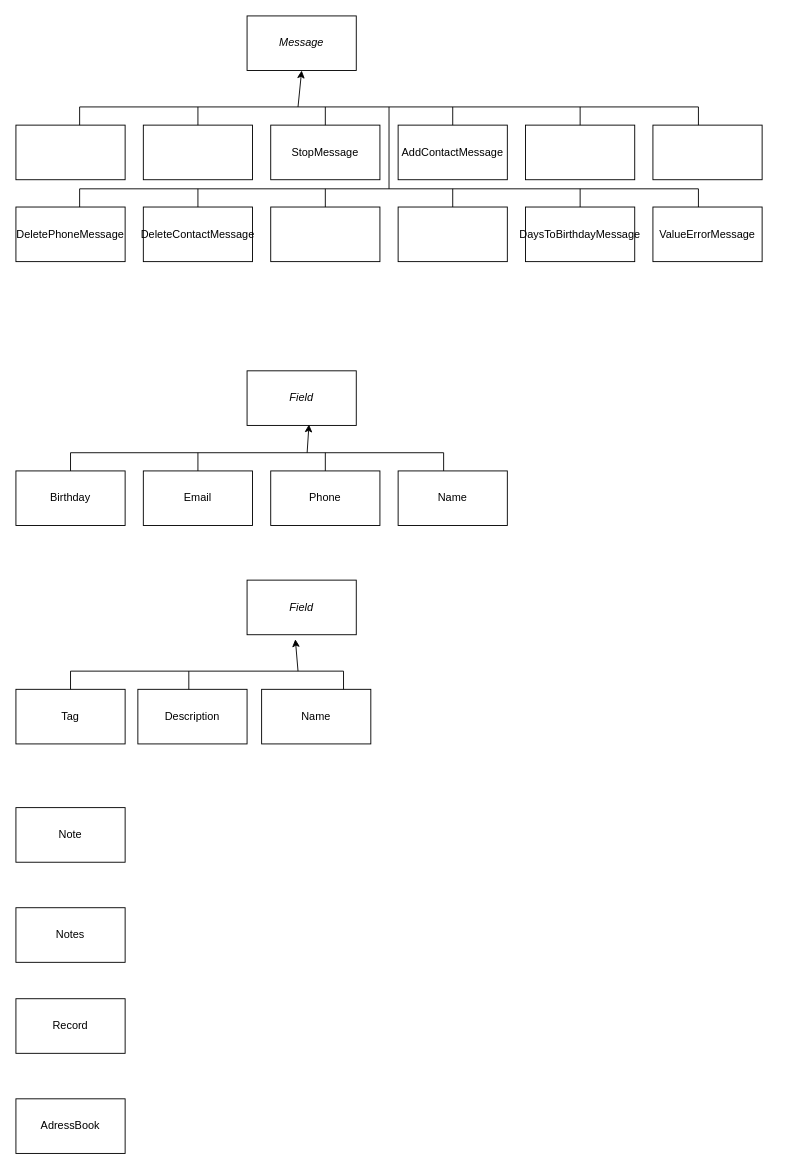
The diagram is 789 pixels wide and 1169 high, and some of its shapes have lost their labels. The shapes that lost their labels are listed below. From the top down, each one's centre as x and y in pixels, then its label:
At (x=70, y=152): "HelpMessage".
At (x=197, y=152): "GreetingMessage".
At (x=580, y=152): "ChangeContactPhonetMessage".
At (x=707, y=152): "BirthdayAfterDaysMessage".
At (x=325, y=234): "AddContactBirthdayMessage".
At (x=452, y=234): "AddContactEmailMessage".
